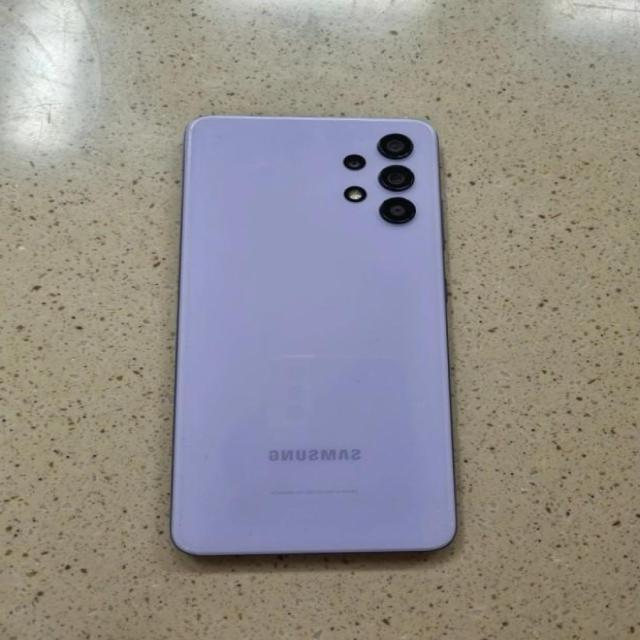mobile: (170, 113, 460, 556)
